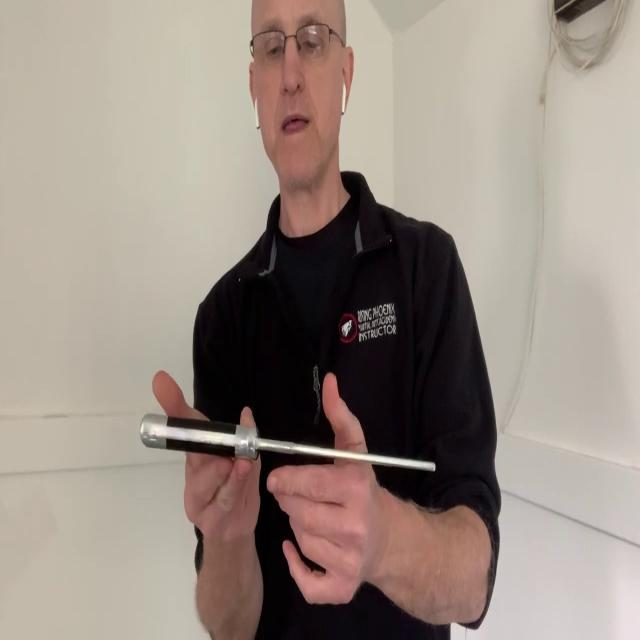Knife_Handle: (140, 369, 436, 607)
